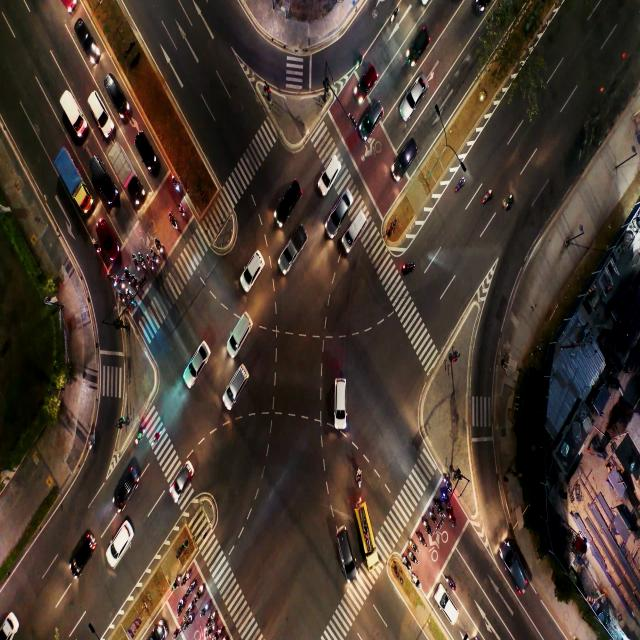bus: (362, 523, 371, 545)
car: (334, 382, 348, 415), (229, 371, 245, 399), (284, 184, 302, 208), (348, 217, 362, 244), (408, 83, 424, 104), (120, 475, 133, 500), (190, 350, 205, 371), (247, 252, 260, 276), (110, 84, 123, 107), (235, 318, 248, 340), (80, 541, 91, 566), (413, 31, 426, 50), (510, 563, 522, 583), (327, 155, 337, 178), (338, 192, 351, 208), (401, 143, 413, 160), (178, 468, 190, 485), (81, 28, 91, 48), (116, 526, 127, 544), (94, 97, 102, 121), (364, 65, 373, 86), (442, 600, 452, 618), (103, 229, 112, 246), (372, 102, 381, 118), (342, 534, 348, 557), (145, 144, 154, 158), (98, 169, 106, 182)
motorcycle: (354, 465, 363, 492), (403, 260, 419, 274), (500, 195, 513, 212), (389, 9, 398, 23), (481, 190, 489, 204), (455, 180, 462, 194), (152, 434, 160, 446), (89, 433, 94, 450), (135, 432, 145, 440), (173, 577, 178, 589), (158, 245, 164, 254), (358, 55, 363, 65), (437, 504, 442, 514), (96, 241, 100, 253), (188, 602, 192, 614), (175, 627, 181, 635), (413, 553, 418, 562), (190, 581, 195, 590), (446, 481, 452, 488), (448, 578, 452, 588), (425, 522, 430, 530), (414, 576, 418, 586), (175, 182, 180, 190), (150, 261, 154, 271), (184, 574, 189, 582), (199, 587, 203, 597), (211, 610, 215, 620), (156, 253, 159, 266), (431, 513, 435, 522), (172, 219, 176, 228), (210, 623, 214, 632), (419, 536, 424, 543), (405, 558, 410, 565), (127, 294, 132, 301), (218, 627, 223, 634), (122, 295, 125, 306), (450, 515, 454, 523), (135, 281, 139, 289), (143, 260, 146, 270), (179, 598, 182, 608), (114, 279, 118, 286), (188, 616, 192, 623), (206, 602, 210, 609), (412, 542, 416, 548), (122, 280, 125, 288), (128, 278, 131, 285), (181, 211, 185, 216), (444, 494, 447, 500), (137, 264, 139, 272)
truck: (286, 235, 300, 263), (66, 160, 78, 188), (67, 101, 76, 125), (122, 165, 129, 189)
